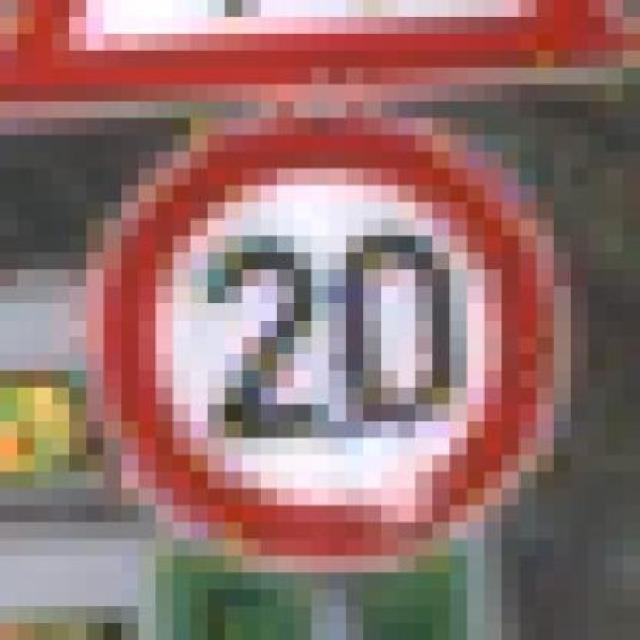forb_speed_over_20: (99, 122, 565, 563)
